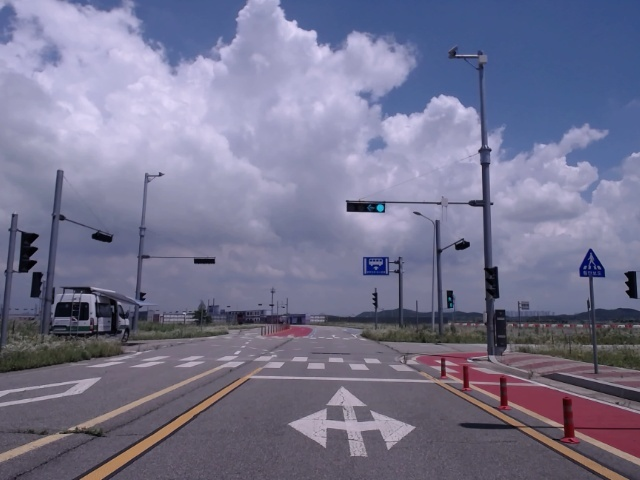all_green_4: (346, 202, 386, 211)
